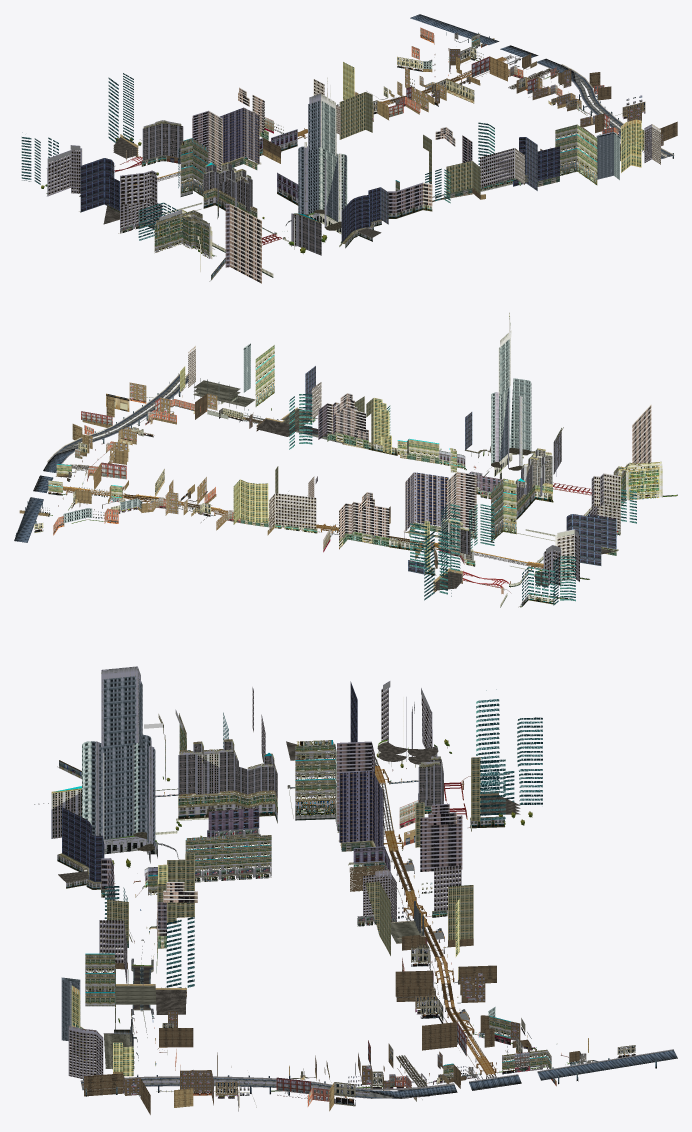
File: track-US_C2_V1.glb
3 renders of one model, top to bottom at view 1: azimuth 30°, elevation 25°; view 2: azimuth 150°, elevation 25°; view 3: azimuth 270°, elevation 25°, orthographic. The views are drawn at different scales.
Parts seen in each view (by area): view 1: US_C2_V1; view 2: US_C2_V1; view 3: US_C2_V1.
Part boxes in pixels (x1,y1,x2,y2): US_C2_V1: (21,14,677,283); US_C2_V1: (14,312,677,607); US_C2_V1: (34,666,677,1114).
Bounding box in the file's own units: 1928 × 548 × 1422.
89 materials, 88 textured.
